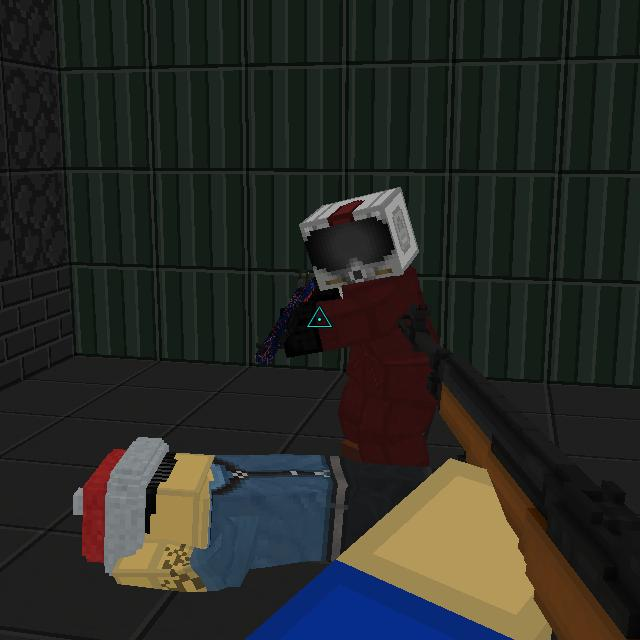enemy: (277, 179, 452, 481)
